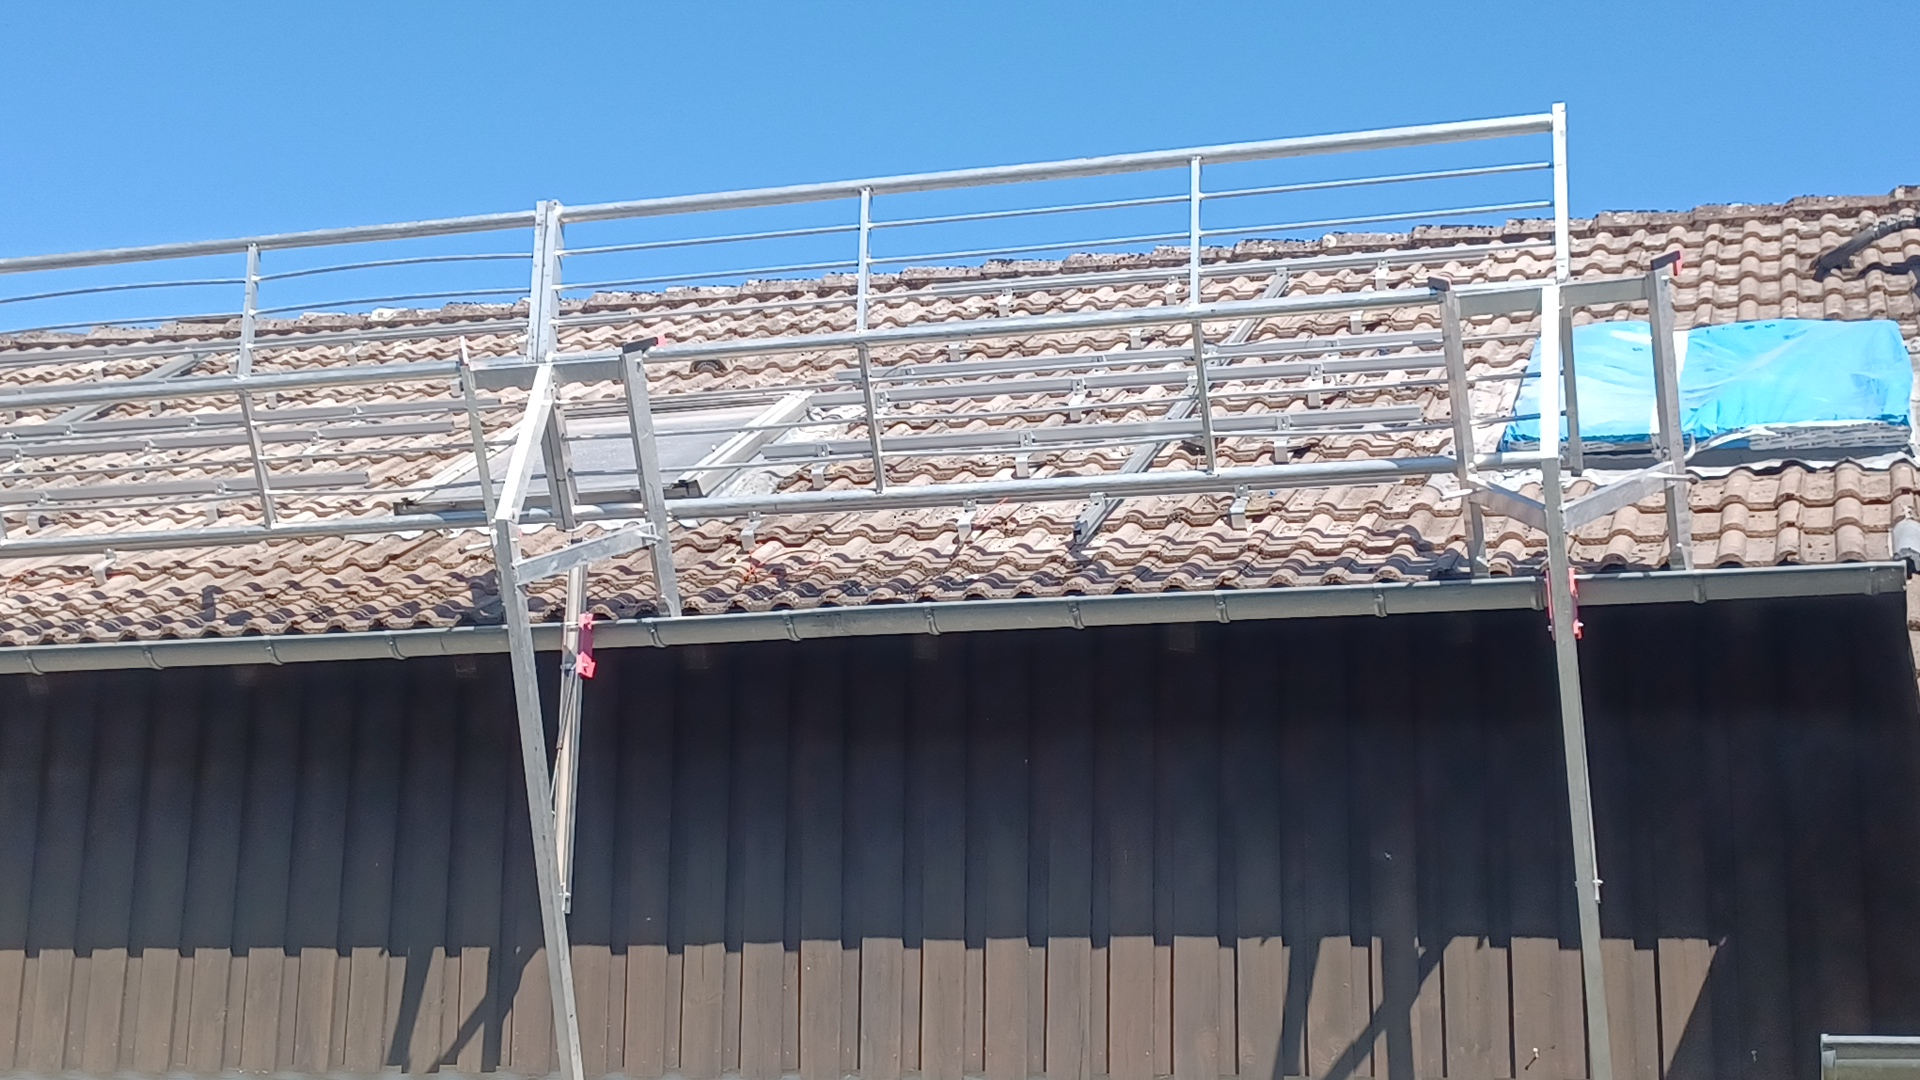hook: (1015, 430, 1038, 477), (957, 498, 982, 541), (1230, 484, 1253, 530), (1275, 414, 1296, 463), (94, 545, 117, 585), (301, 429, 324, 469), (741, 510, 764, 553), (206, 480, 227, 524), (26, 491, 49, 531), (3, 446, 22, 487), (814, 444, 831, 489), (135, 440, 154, 479), (1069, 377, 1087, 419), (1091, 355, 1108, 394), (898, 368, 915, 407), (5, 388, 24, 423), (1308, 364, 1323, 407), (876, 392, 890, 434), (94, 349, 111, 382), (152, 380, 167, 415), (185, 415, 200, 450), (1327, 342, 1340, 382), (1375, 257, 1390, 291), (1166, 276, 1182, 305), (266, 389, 290, 407), (228, 342, 241, 375), (1350, 309, 1366, 334), (348, 339, 364, 364), (1131, 326, 1149, 348), (1000, 287, 1013, 316), (949, 342, 968, 361), (448, 376, 465, 396), (517, 324, 527, 355), (348, 406, 363, 426), (65, 425, 73, 440)
